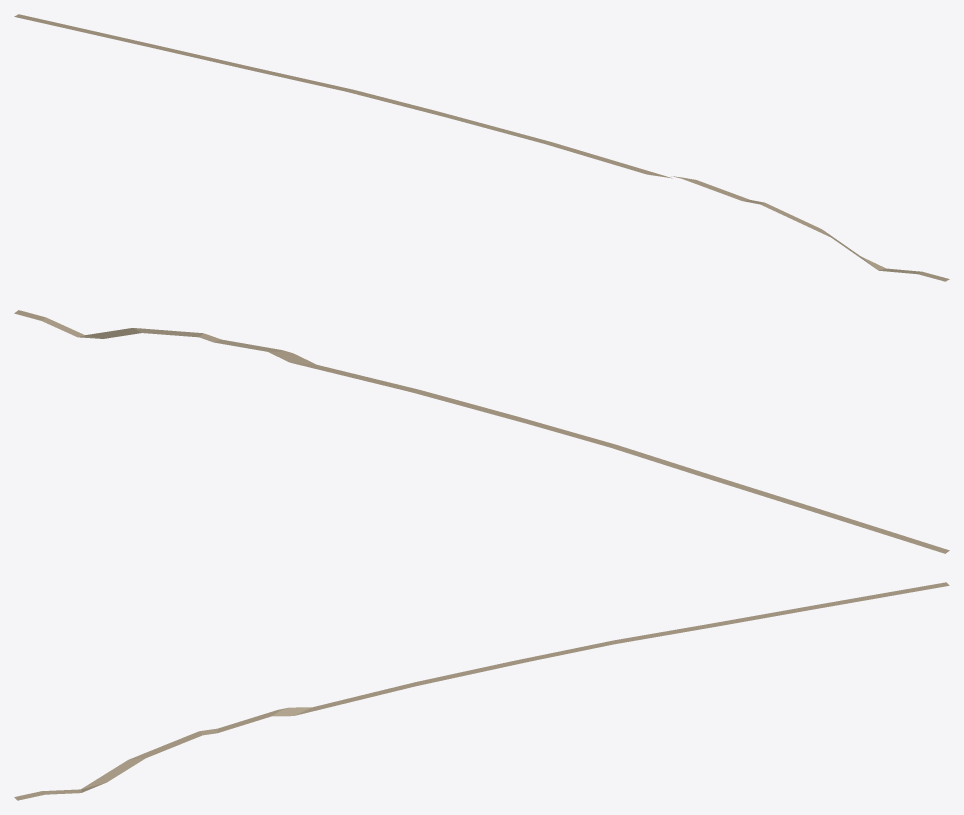
Rendered from farm_24_26_track.glb.
The picture shows the model from 3 angles, top to bottom: view 1: azimuth 30°, elevation 25°; view 2: azimuth 210°, elevation 25°; view 3: azimuth 270°, elevation 25°; orthographic projection. The views are drawn at different scales.
Parts seen in each view (by area): view 1: geometry_0; view 2: geometry_0; view 3: geometry_0.
Part boxes in pixels (left/top/right/bottom): geometry_0: left=14, top=14, right=949, bottom=281; geometry_0: left=14, top=310, right=949, bottom=553; geometry_0: left=14, top=582, right=949, bottom=800.
Size of the model in its own units: 197 by 16.32 by 378.
